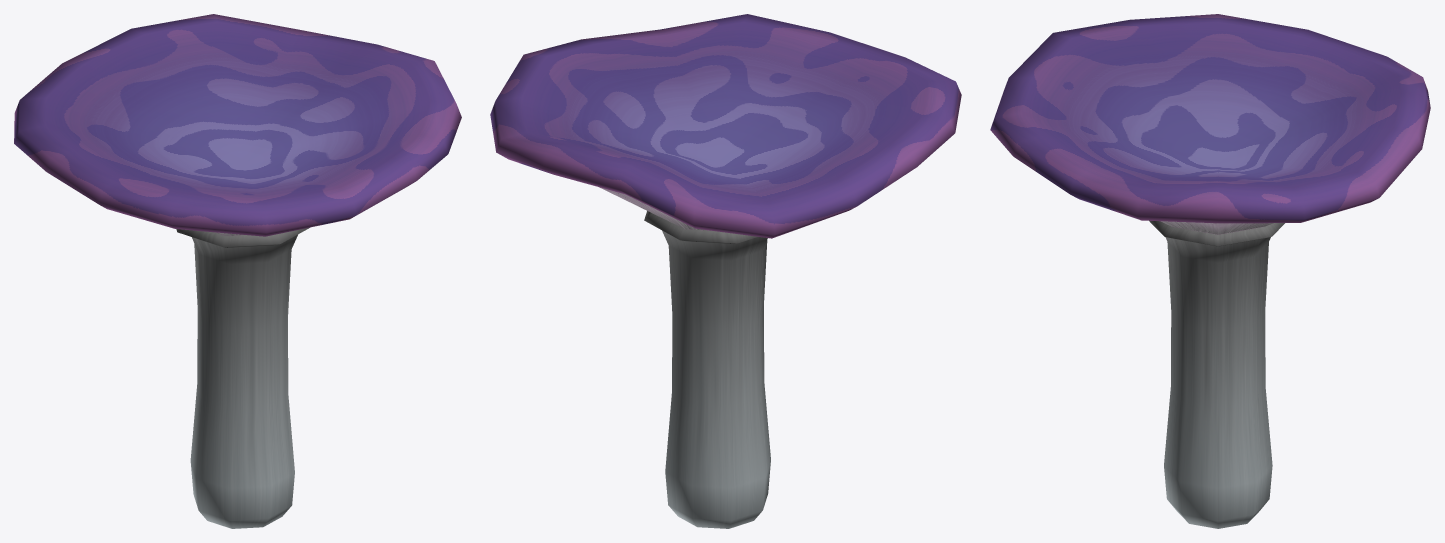
Rendered from VEG0110001.fbx.
3 views of the same model, side by side, from view 1: azimuth 30°, elevation 25°; view 2: azimuth 150°, elevation 25°; view 3: azimuth 270°, elevation 25° (orthographic).
Parts seen in each view (by area): view 1: smVEG0110001; view 2: smVEG0110001; view 3: smVEG0110001.
Boxes of the visible parts, left/top/right/bottom form: smVEG0110001: left=14, top=14, right=461, bottom=528; smVEG0110001: left=490, top=14, right=961, bottom=528; smVEG0110001: left=990, top=14, right=1430, bottom=528.
Size of the model in its own units: 20.84 by 21.61 by 20.13.
1 material, 1 textured.
